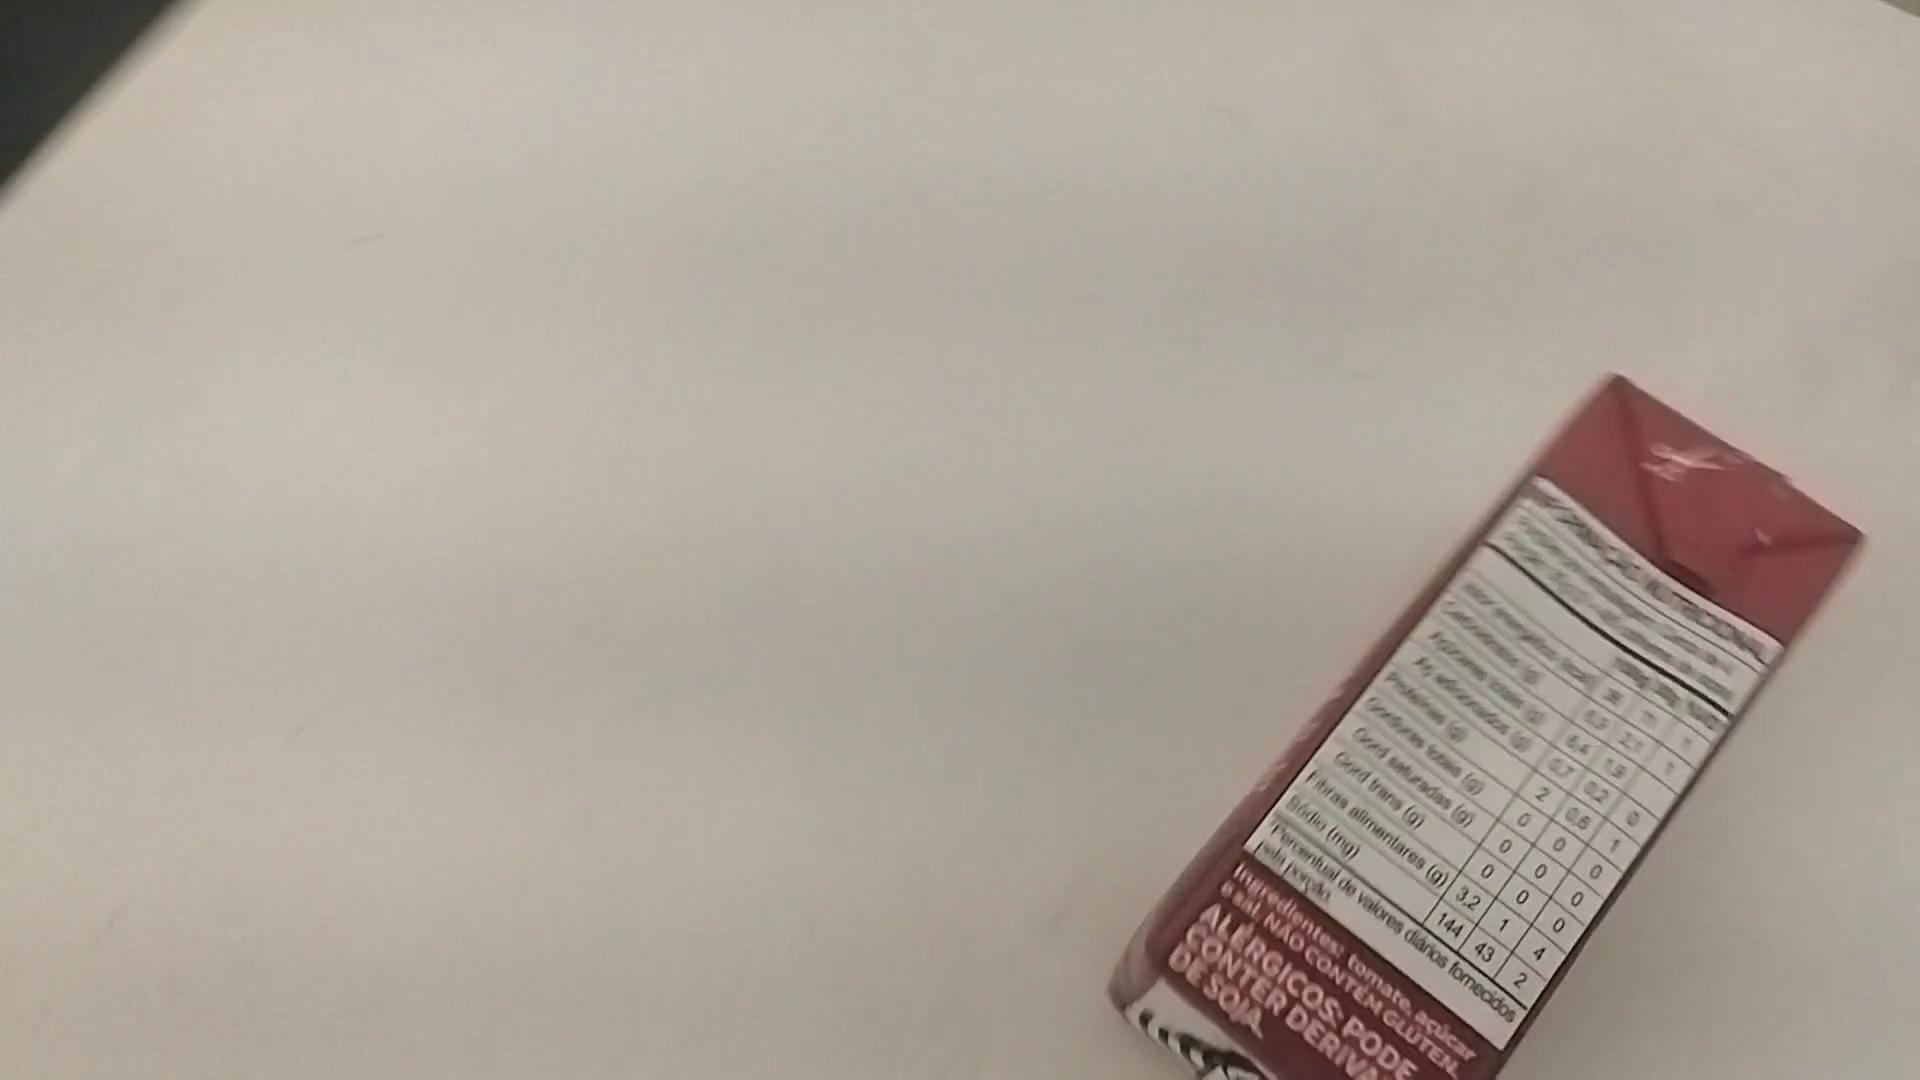tomate: (1088, 363, 1876, 1072)
